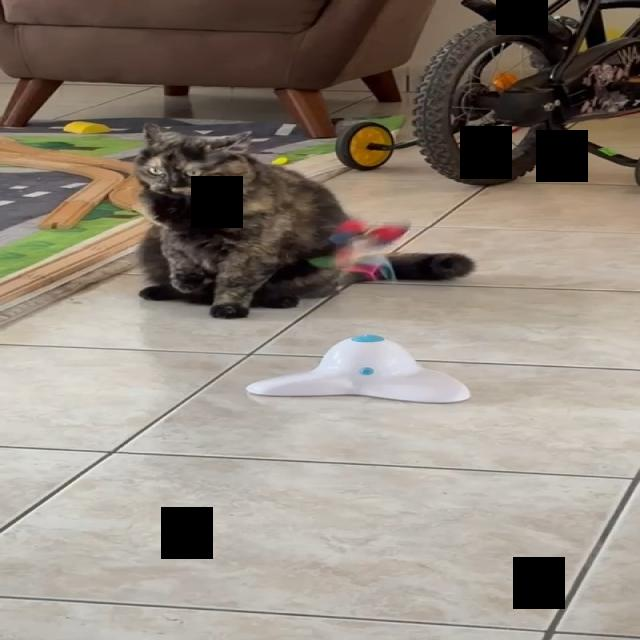authorized: (130, 122, 474, 318)
